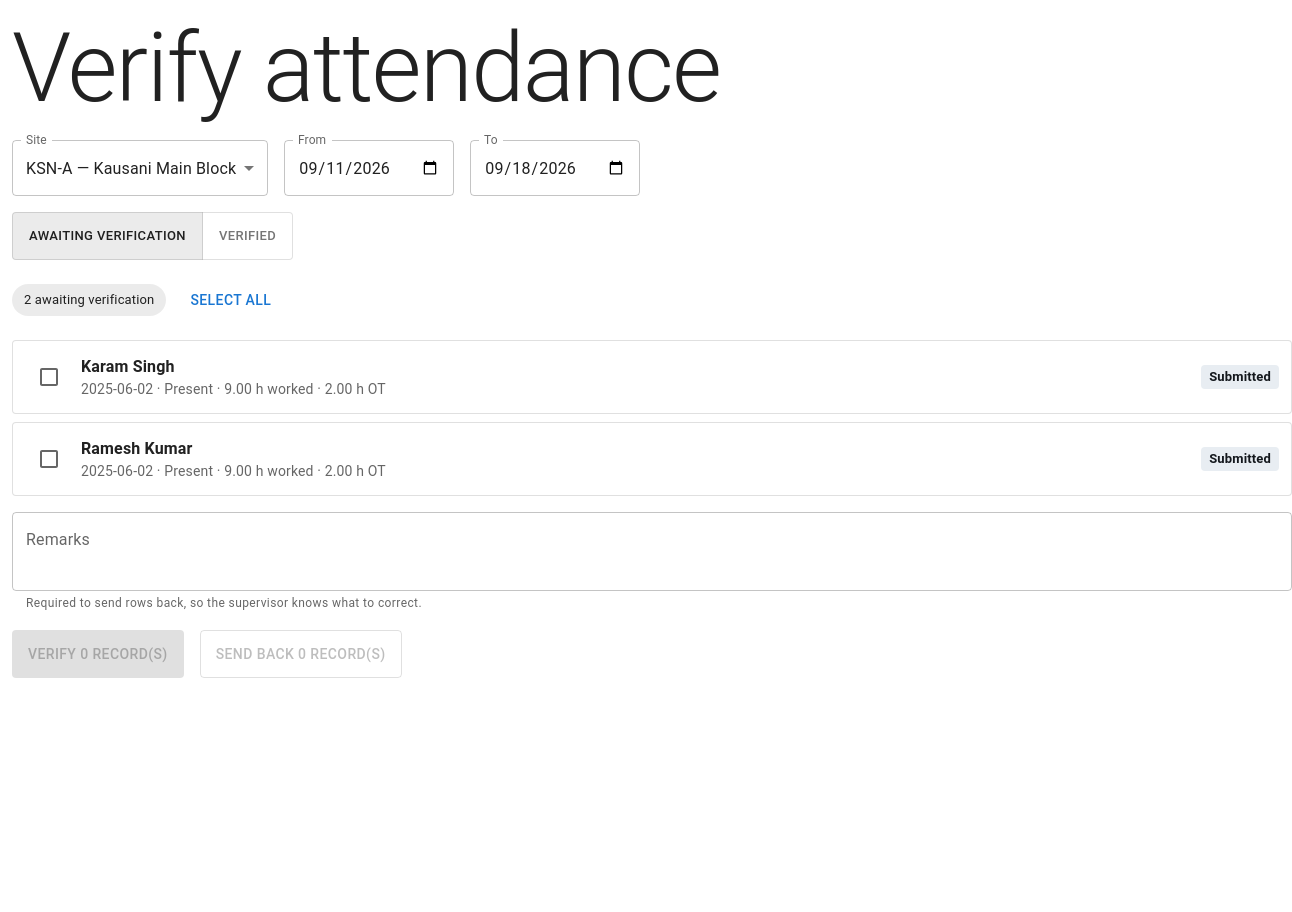
Test: VerifyAttendancePage › offers no correction to a verifier who cannot correct
Expected: the text "Karam Singh" is shown, [81, 357, 175, 376]
Step 1. Click the button "Verified" → x=248, y=236, box [202, 212, 293, 260]
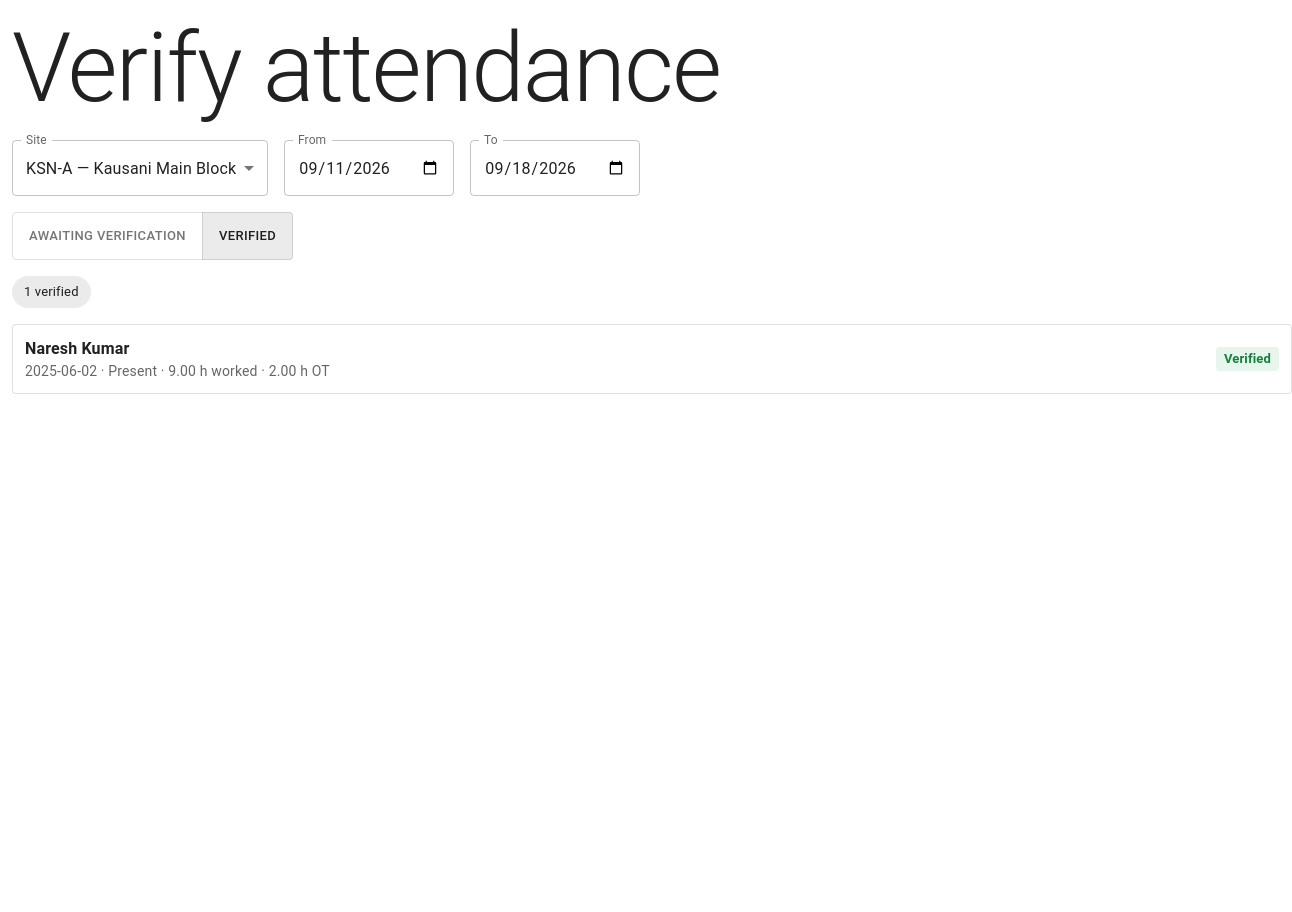
Expected: the text "Naresh Kumar" is shown, [25, 339, 129, 358]
Expected: the text "correct" is gone
